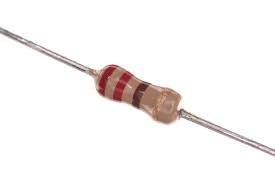resistor: (95, 63, 183, 126)
